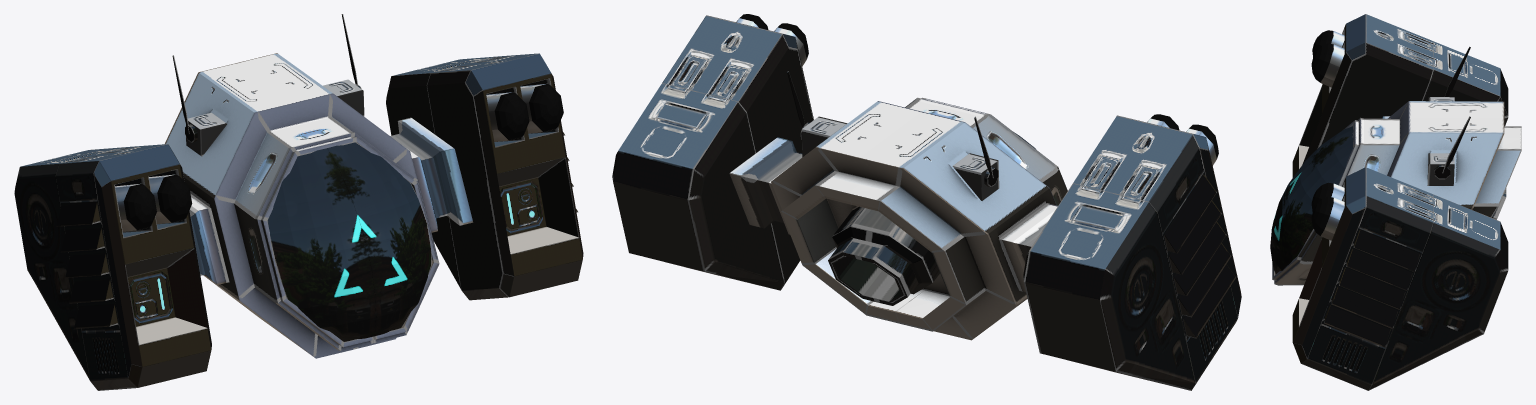
The model's file is parcali_drone_6.FBX.
The picture shows the model from 3 angles, left to right: view 1: azimuth 30°, elevation 25°; view 2: azimuth 150°, elevation 25°; view 3: azimuth 270°, elevation 25°; orthographic projection. The views are drawn at different scales.
Parts seen in each view (by area): view 1: Object015, Object010, Object012, Object001, Object008, Object009, Object014, Object016, Object013, Object017, Object002, Object005; view 2: Object015, Object010, Object012, Object011, Object008, Object009, Object002, Object005, Object014; view 3: Object012, Object010, Object015, Object001, Object016, Object013, Object005, Object014, Object017, Object007, Object004.
Boxes of the visible parts, left/top/right/bottom form: Object015: left=14, top=144, right=211, bottom=390; Object010: left=165, top=53, right=439, bottom=358; Object012: left=386, top=53, right=583, bottom=300; Object001: left=267, top=142, right=431, bottom=341; Object008: left=390, top=117, right=473, bottom=232; Object009: left=189, top=194, right=229, bottom=284; Object014: left=486, top=92, right=529, bottom=141; Object016: left=149, top=174, right=192, bottom=224; Object013: left=520, top=83, right=563, bottom=133; Object017: left=115, top=183, right=156, bottom=231; Object002: left=186, top=112, right=227, bottom=156; Object005: left=323, top=79, right=364, bottom=116; Object015: left=1023, top=115, right=1241, bottom=390; Object010: left=771, top=97, right=1067, bottom=340; Object012: left=612, top=15, right=813, bottom=290; Object011: left=828, top=206, right=939, bottom=305; Object008: left=729, top=137, right=802, bottom=234; Object009: left=999, top=203, right=1057, bottom=292; Object002: left=952, top=153, right=999, bottom=200; Object005: left=801, top=116, right=847, bottom=157; Object014: left=774, top=23, right=808, bottom=66; Object012: left=1292, top=167, right=1508, bottom=390; Object010: left=1272, top=101, right=1521, bottom=285; Object015: left=1292, top=14, right=1508, bottom=177; Object001: left=1270, top=126, right=1353, bottom=273; Object016: left=1311, top=43, right=1344, bottom=87; Object013: left=1311, top=197, right=1344, bottom=240; Object005: left=1427, top=153, right=1454, bottom=185; Object014: left=1311, top=182, right=1344, bottom=211; Object017: left=1312, top=30, right=1344, bottom=57; Object007: left=1442, top=116, right=1470, bottom=173; Object004: left=1444, top=46, right=1470, bottom=96.
Bounding box in the file's own units: 746 × 394 × 410.
Materials: 1 (1 with a texture image).
